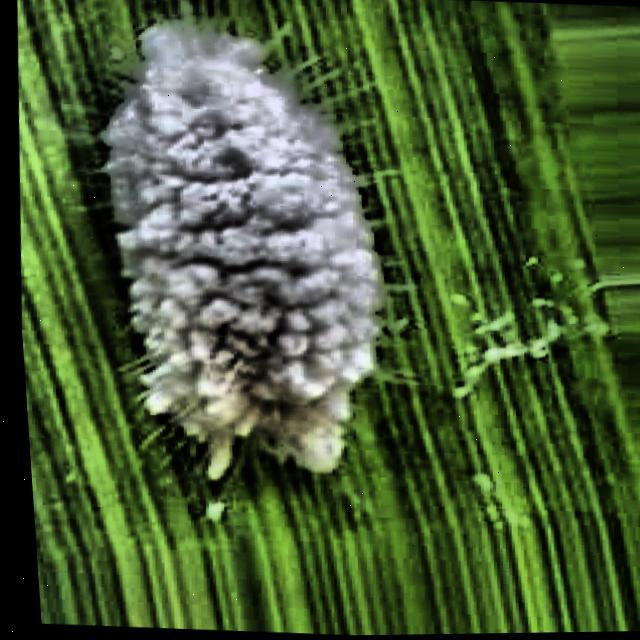Mealy-bug: (37, 2, 460, 508)
